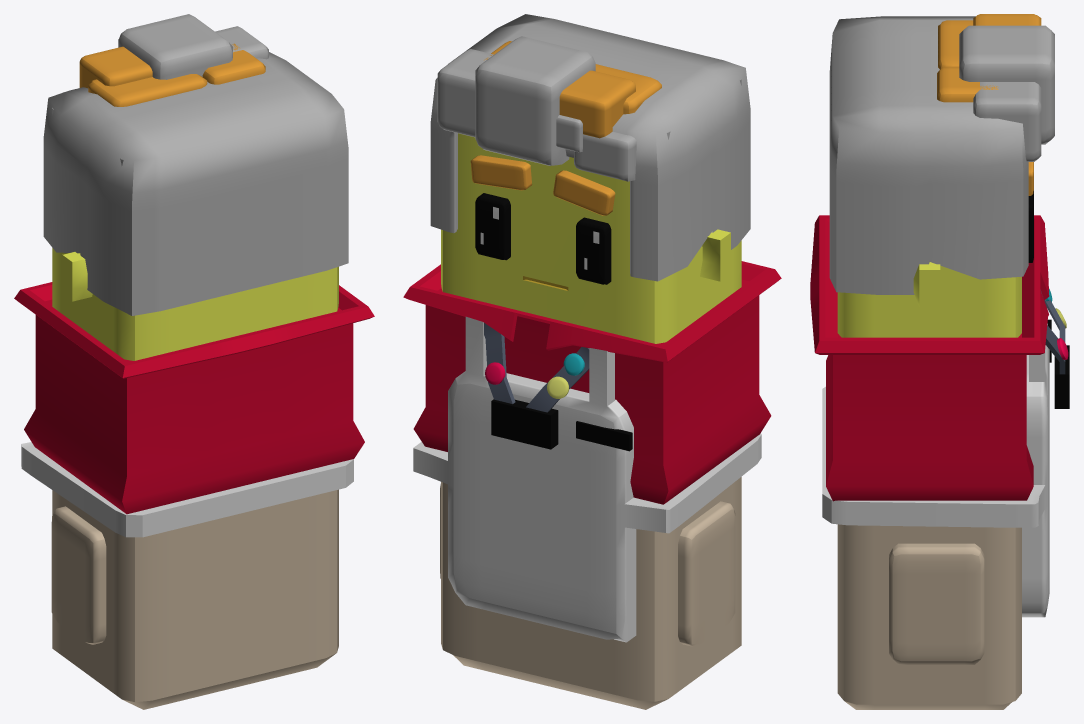
The model's file is PlaceHolderMain.fbx.
The picture shows the model from 3 angles, left to right: view 1: azimuth 30°, elevation 25°; view 2: azimuth 150°, elevation 25°; view 3: azimuth 270°, elevation 25°; orthographic projection. The views are drawn at different scales.
Parts seen in each view (by area): view 1: pCube9; view 2: pCube9; view 3: pCube9.
Boxes of the visible parts, x1,y1,x2,y2 form: pCube9: (14, 14, 374, 709); pCube9: (403, 14, 781, 709); pCube9: (810, 14, 1069, 709).
Bounding box in the file's own units: 4.15 × 9.26 × 3.44.
